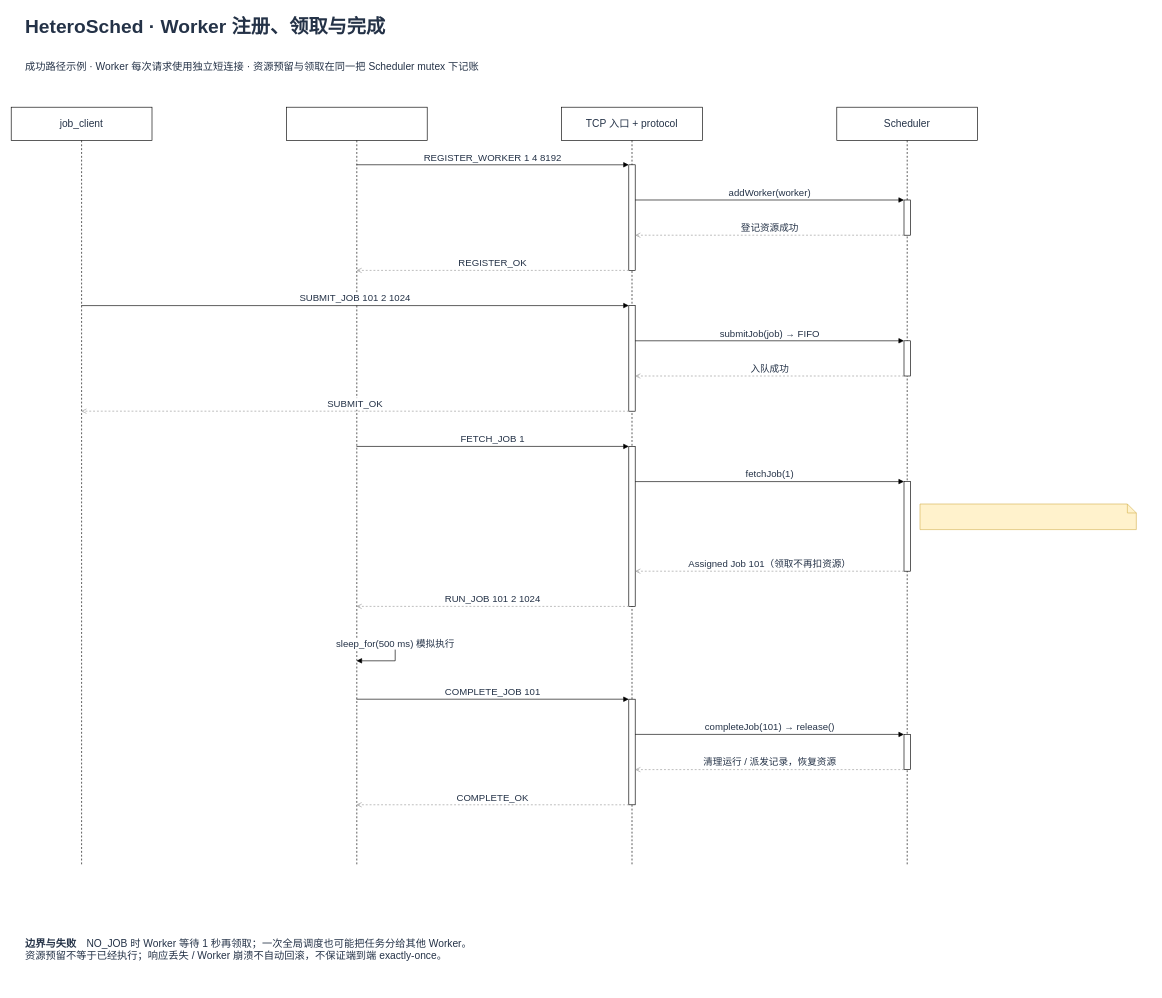
The diagram is 1162 pixels wide and 998 high, and some of its shapes have lost their labels. Here are the shapes that lost their labels. From the top down, the box of each, then its label:
(286, 107, 427, 866): worker_client
(919, 503, 1136, 530): 先取本 Worker 待派发任务；否则全局调度一次后再取。调度时预留资源并登记运行记录。
